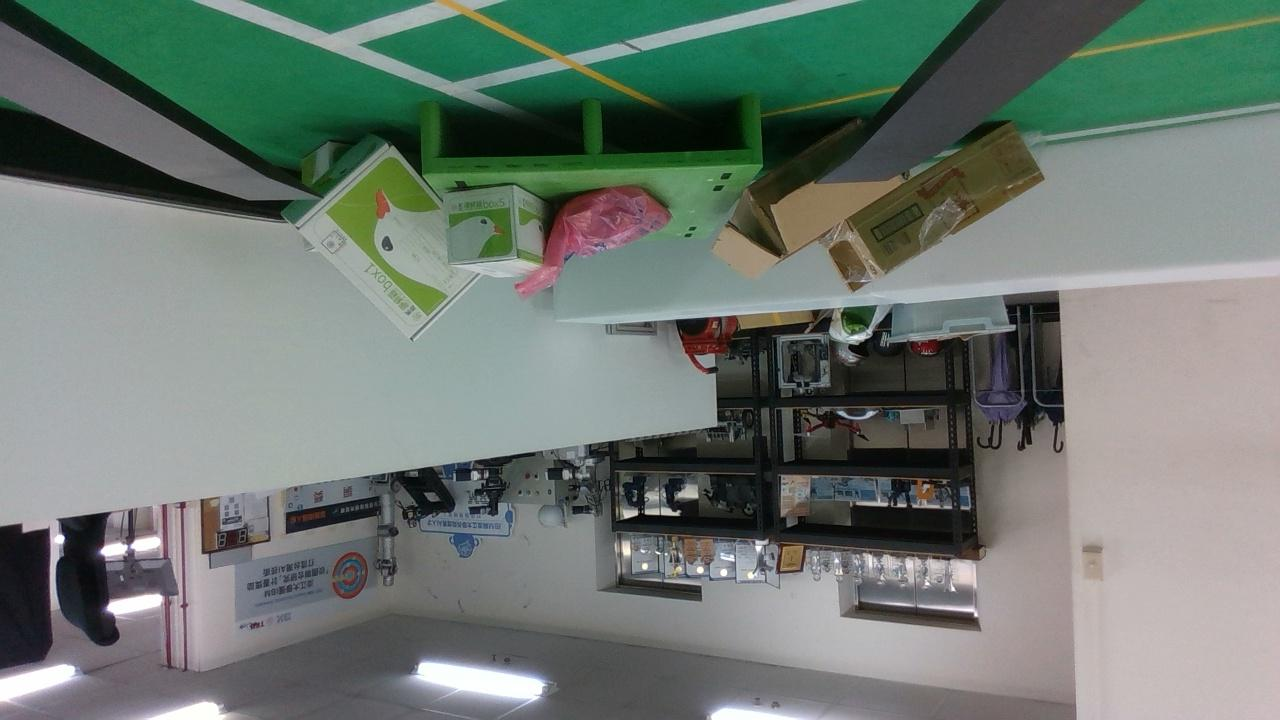Pallet: (418, 100, 760, 177)
